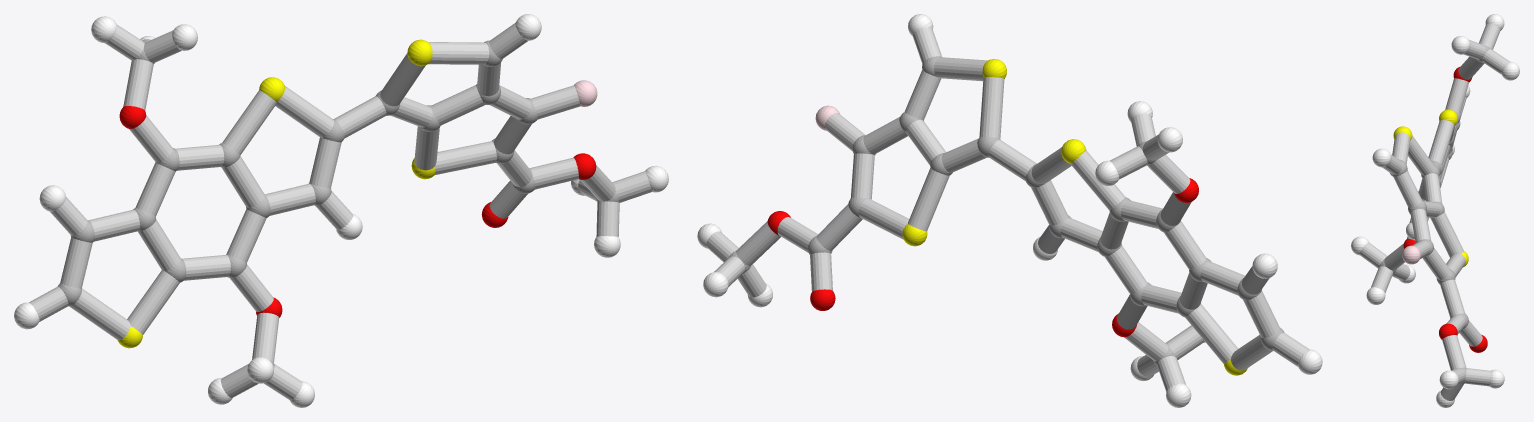
File: Dimethoxy_Benzodithiophene_Phi_15_Theta_220_Methylcarbonyl_3_Fluoro_Thienothiophene.glb
The picture shows the model from 3 angles, left to right: view 1: azimuth 30°, elevation 25°; view 2: azimuth 150°, elevation 25°; view 3: azimuth 270°, elevation 25°; orthographic projection. The views are drawn at different scales.
Parts seen in each view (by area): view 1: grp15205, grp8689, grp1, grp7241, grp13395; view 2: grp15205, grp8689, grp1, grp7241, grp13395; view 3: grp15205, grp8689, grp1, grp13395, grp7241, grp14843.
Part boxes in pixels (x1=…): grp15205: x1=29, y1=22, x2=651, y2=400; grp8689: x1=14, y1=14, x2=668, y2=407; grp1: x1=57, y1=40, x2=619, y2=367; grp7241: x1=117, y1=39, x2=435, y2=348; grp13395: x1=119, y1=105, x2=596, y2=317; grp15205: x1=706, y1=27, x2=1309, y2=391; grp8689: x1=697, y1=14, x2=1322, y2=407; grp1: x1=728, y1=56, x2=1284, y2=365; grp7241: x1=902, y1=59, x2=1247, y2=375; grp13395: x1=767, y1=178, x2=1198, y2=337; grp15205: x1=1359, y1=23, x2=1509, y2=400; grp8689: x1=1351, y1=14, x2=1519, y2=407; grp1: x1=1379, y1=45, x2=1491, y2=384; grp13395: x1=1403, y1=67, x2=1487, y2=352; grp7241: x1=1393, y1=109, x2=1468, y2=267; grp14843: x1=1402, y1=245, x2=1420, y2=264.
Bounding box in the file's own units: 16.87 × 8.75 × 5.34.
